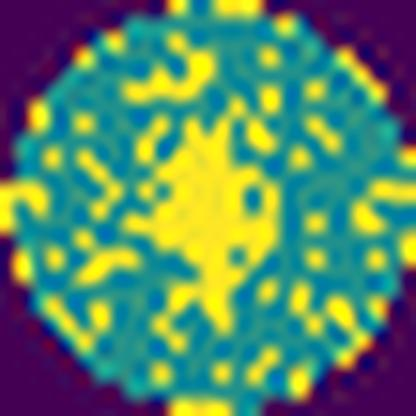Center: (122, 103, 284, 350)
